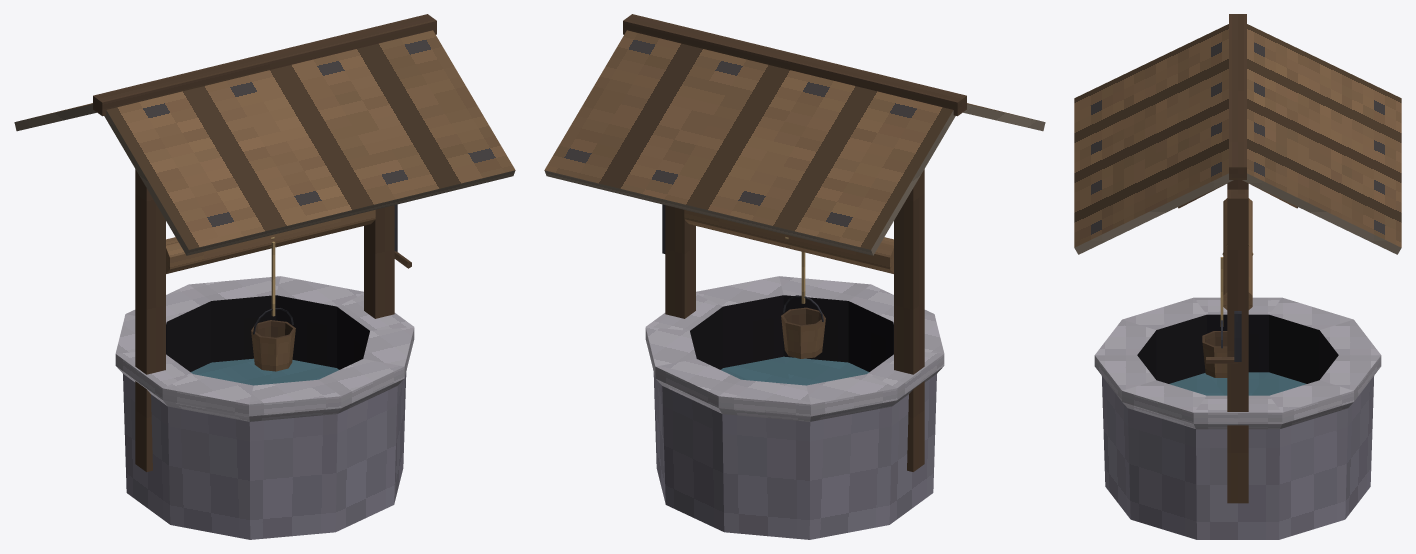
The model's file is covered-well.glb.
The picture shows the model from 3 angles, left to right: view 1: azimuth 30°, elevation 25°; view 2: azimuth 150°, elevation 25°; view 3: azimuth 270°, elevation 25°; orthographic projection. The views are drawn at different scales.
Visible parts, largest first — view 1: well, bucket; view 2: well, bucket; view 3: well, bucket.
Part boxes in pixels (x1=…): well: x1=14, y1=14, x2=515, y2=539; bucket: x1=251, y1=308, x2=295, y2=371; well: x1=544, y1=14, x2=1045, y2=539; bucket: x1=781, y1=295, x2=825, y2=358; well: x1=1074, y1=14, x2=1401, y2=539; bucket: x1=1202, y1=320, x2=1227, y2=377.
Bounding box in the file's own units: 2.05 × 2.47 × 1.85.
Materials: 1 (1 with a texture image).
